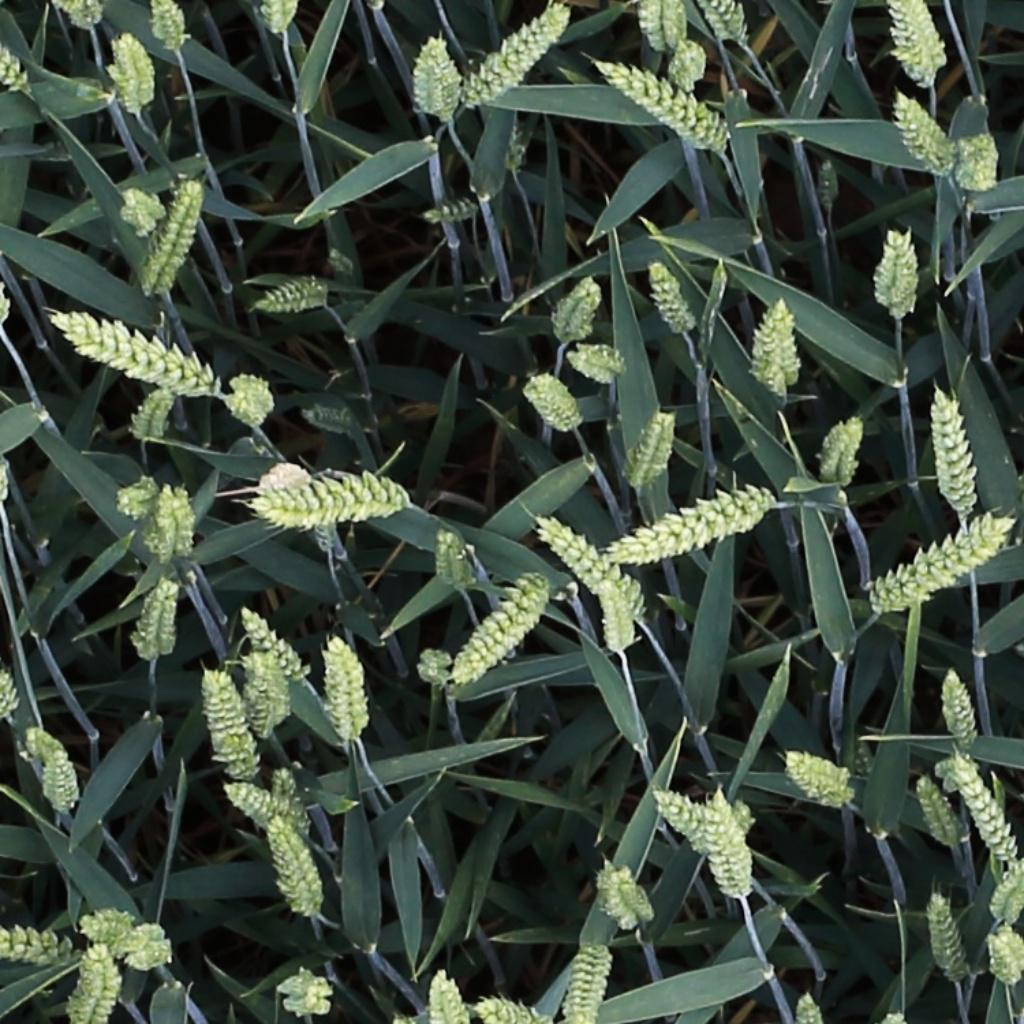0-0: (41, 305, 223, 402), (598, 479, 781, 568), (862, 503, 1008, 613), (462, 1, 572, 110), (537, 517, 649, 619), (453, 574, 551, 690), (254, 469, 436, 530), (602, 61, 731, 147), (933, 748, 1021, 871), (930, 380, 986, 514), (80, 901, 177, 977), (144, 178, 203, 292), (313, 628, 368, 742), (276, 461, 336, 562), (208, 662, 261, 775), (774, 744, 860, 813), (236, 606, 309, 686), (267, 816, 322, 922), (892, 86, 955, 177), (589, 852, 659, 933), (126, 579, 185, 664), (237, 651, 293, 737), (890, 2, 948, 84), (709, 789, 750, 903), (755, 305, 805, 396), (652, 790, 725, 852), (914, 772, 965, 856), (647, 255, 697, 338), (148, 478, 198, 561), (869, 229, 918, 312), (928, 887, 968, 988), (565, 938, 611, 1024), (629, 405, 674, 492), (408, 40, 455, 120), (554, 271, 604, 346), (223, 780, 304, 826), (249, 271, 329, 317), (561, 335, 631, 387), (106, 27, 149, 111), (75, 944, 120, 1024), (274, 967, 340, 1020), (942, 664, 978, 760), (525, 374, 584, 432), (825, 410, 868, 484), (132, 379, 176, 446), (602, 577, 633, 664), (414, 632, 459, 691), (988, 858, 1024, 931), (45, 750, 76, 834), (425, 971, 473, 1024), (436, 524, 471, 596), (639, 1, 689, 50), (0, 8, 28, 94), (985, 929, 1024, 989), (116, 471, 160, 524), (23, 717, 67, 769), (229, 375, 273, 421), (673, 34, 705, 96), (711, 1, 752, 49), (969, 128, 998, 195), (152, 0, 187, 55), (120, 187, 159, 236), (476, 1000, 550, 1024), (0, 932, 68, 958), (0, 654, 23, 730), (819, 150, 842, 217), (427, 199, 483, 221), (303, 405, 356, 428), (795, 984, 824, 1024), (266, 0, 293, 42), (58, 0, 98, 28), (272, 764, 296, 808)
